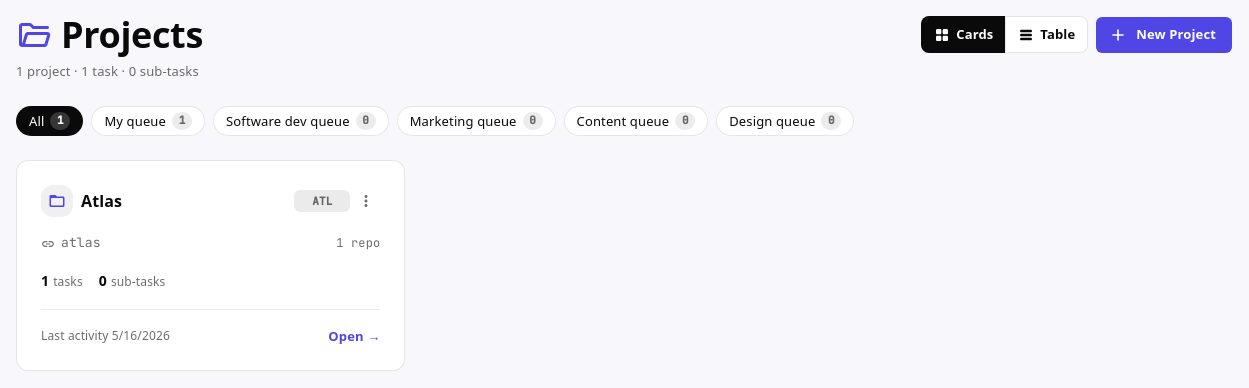
it: Projects page › card menu offers only project-wide actions — repo actions moved to Project Detail
The image size is (1249, 388).
Expected: the heading "Atlas" is shown, [81,190,122,213]
What coordinates should you click on to do the following:
click the button named "Project actions"
I would click on:
 (366, 202)
Its box is [352,188,380,216].
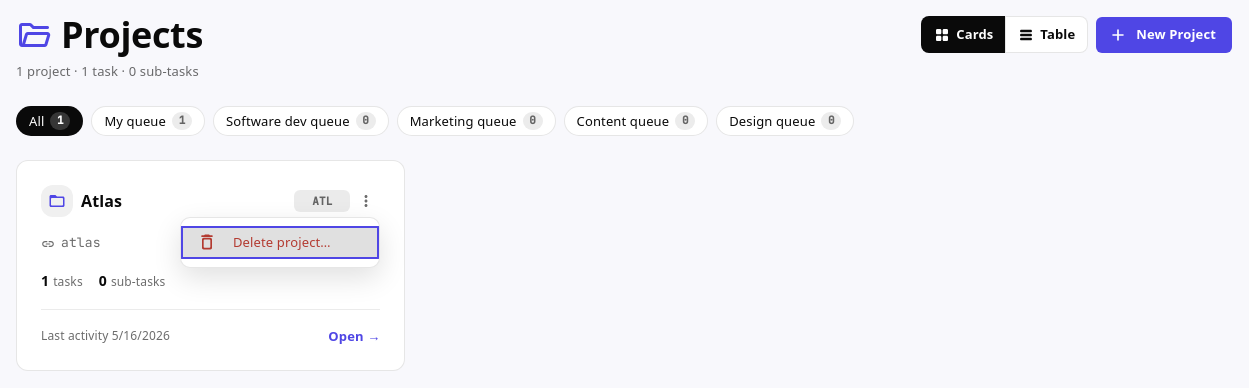
Result: the menu is shown at [181,218,379,267]
